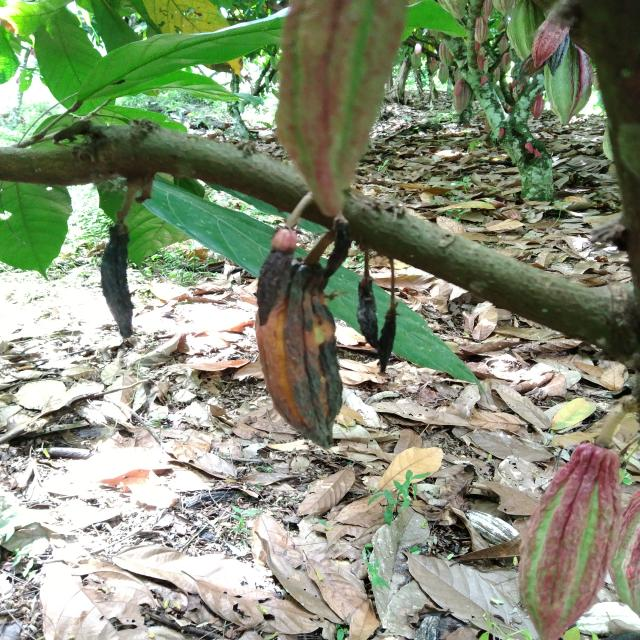Fitoftora: (237, 258, 348, 452), (90, 227, 142, 339), (252, 228, 297, 324), (346, 281, 384, 351), (375, 305, 404, 374)
Sana: (281, 0, 404, 214), (516, 442, 621, 638), (542, 51, 594, 123), (447, 78, 472, 114), (469, 18, 490, 42)
